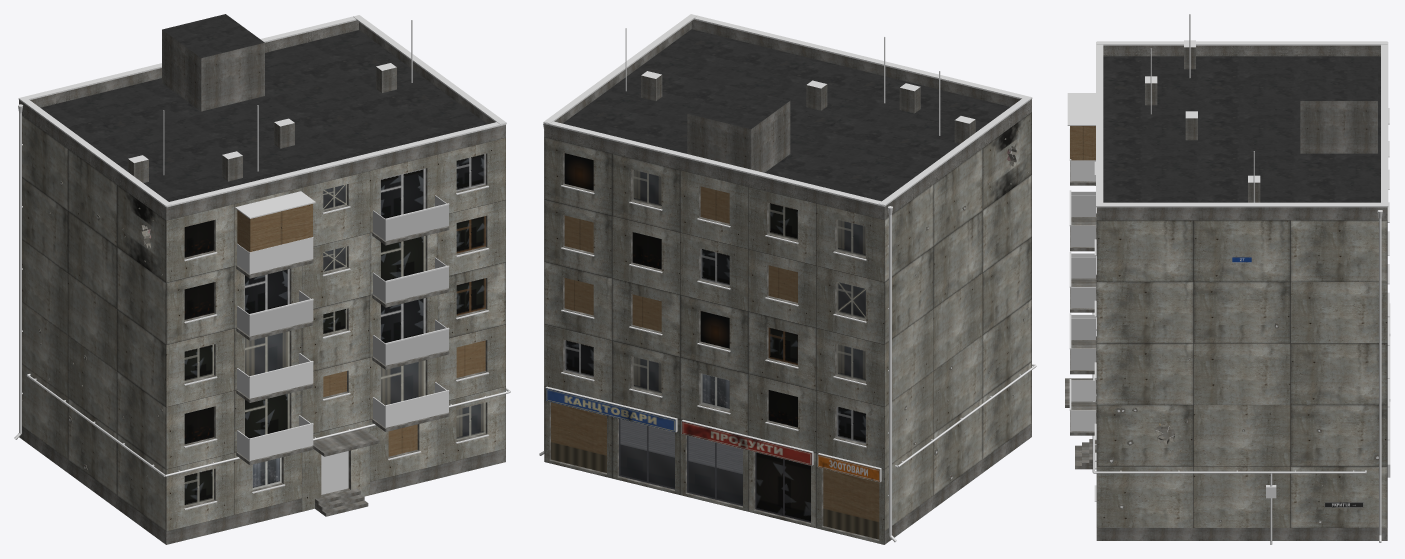
The model's file is S1U_KH_Shop.fbx.
3 renders of one model, left to right at view 1: azimuth 30°, elevation 25°; view 2: azimuth 150°, elevation 25°; view 3: azimuth 270°, elevation 25°, orthographic.
Parts seen in each view (by area): view 1: S1U_KH_Shop; view 2: S1U_KH_Shop; view 3: S1U_KH_Shop.
Boxes of the visible parts, x1=… form: S1U_KH_Shop: x1=14, y1=14, x2=510, y2=544; S1U_KH_Shop: x1=539, y1=14, x2=1036, y2=544; S1U_KH_Shop: x1=1065, y1=14, x2=1390, y2=544.
Size of the model in its own units: 16.79 by 17.68 by 13.44.
